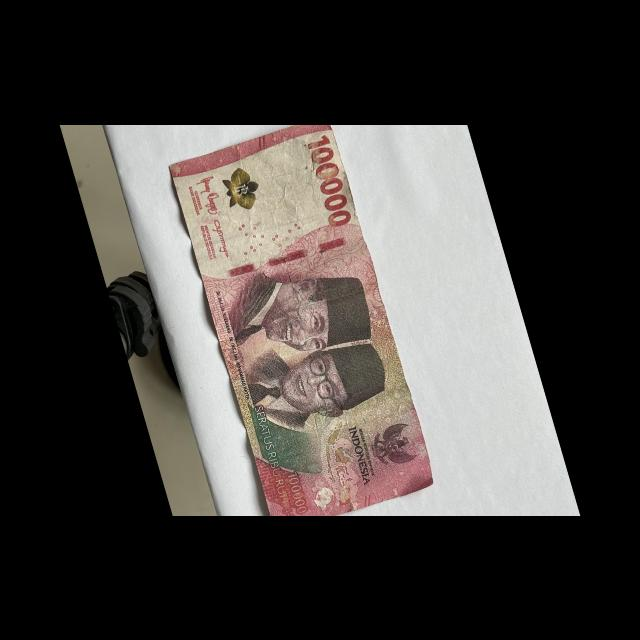Palsu-100k: (166, 116, 439, 534)
Tinta-Palsu-100k: (216, 160, 267, 218)
